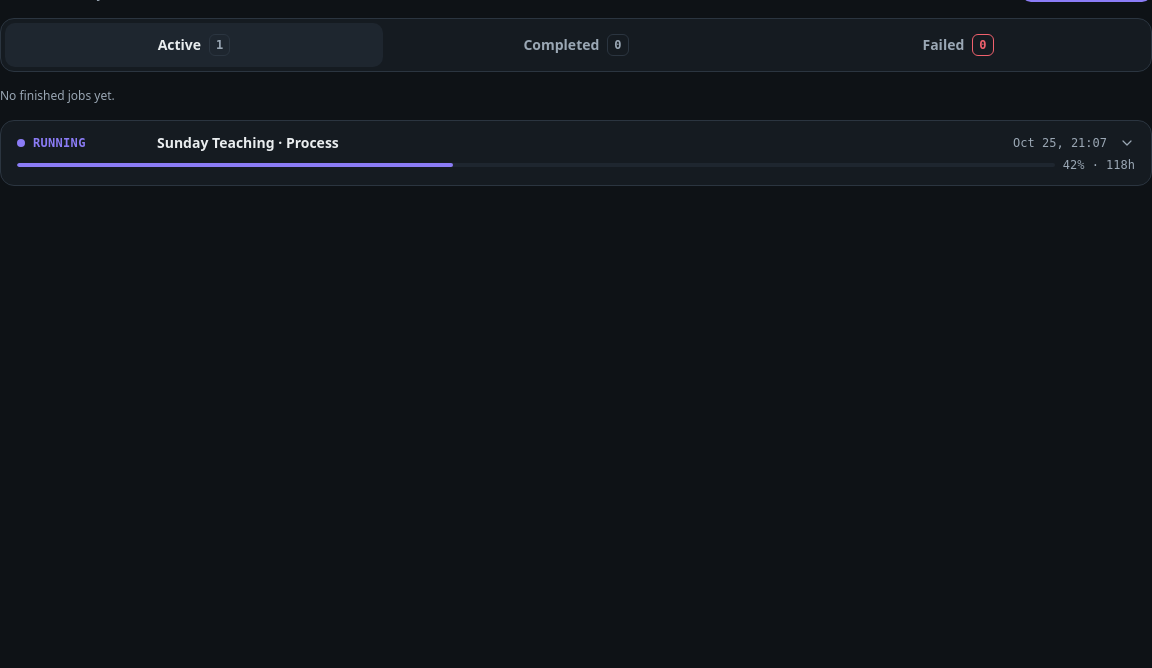
it: Jobs rows › reveals description, type, context, id, readable parameters, log, and actions on expansion
Expected: the text "Processing \"Sunday Teaching\"" is not shown
Click the button with test id "job-row-job-1".
click(59, 143)  # box [1,121,1151,185]
(page scrolled)
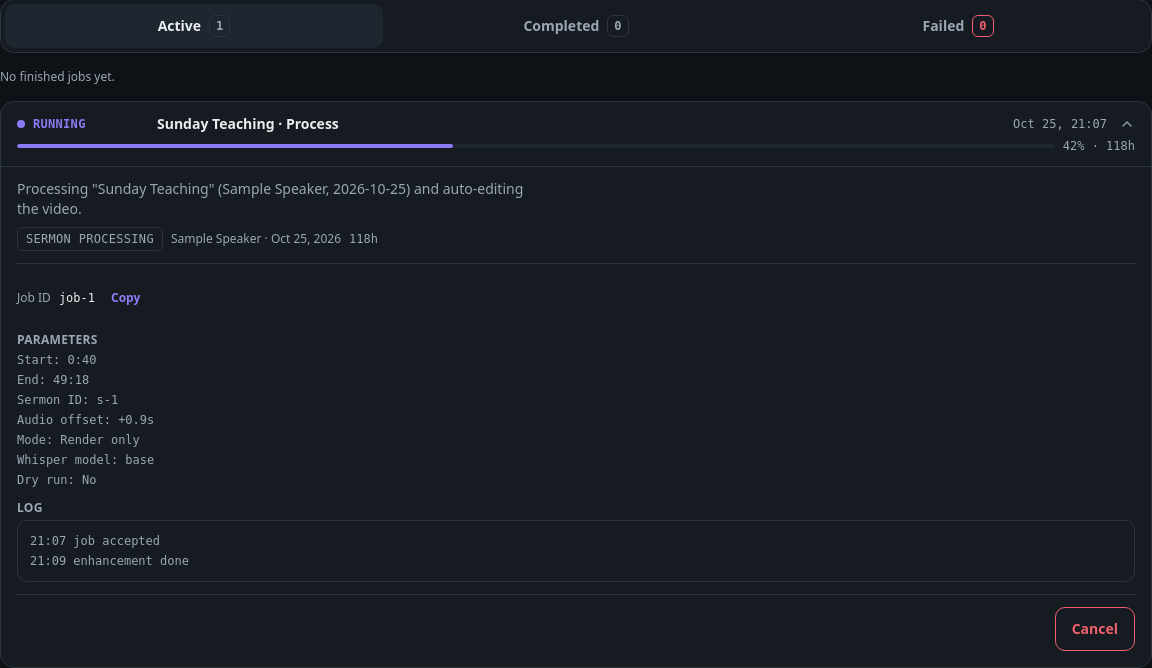
Result: the button with test id "job-row-job-1" is expanded at [1,102,1151,166]
Result: the text "Processing \"Sunday Teaching\"" is shown at [17,179,523,218]
Result: the text "Sermon processing" is shown at [17,227,163,251]
